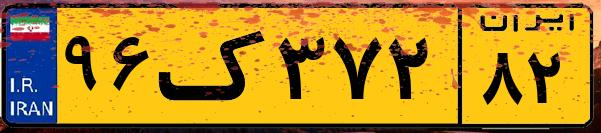2: (385, 28, 445, 110), (525, 38, 570, 115)
3: (270, 28, 330, 110)
6: (110, 28, 158, 98)
7: (330, 28, 385, 110)
8: (475, 38, 525, 113)
9: (57, 26, 110, 100)
ک: (158, 12, 270, 120)
